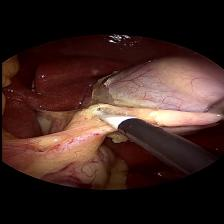Hook: (92, 106, 136, 132)
